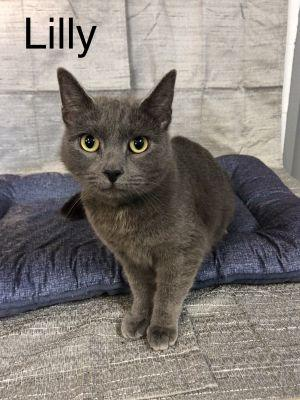rblue: (37, 51, 200, 218)
